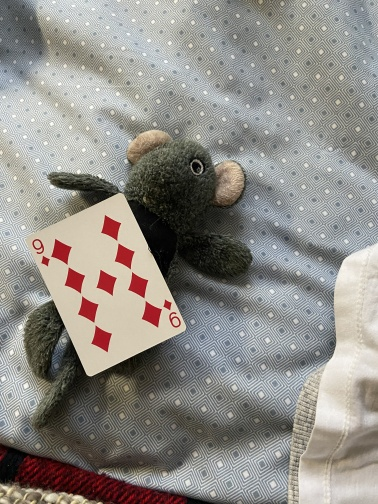nine: (24, 191, 188, 379)
